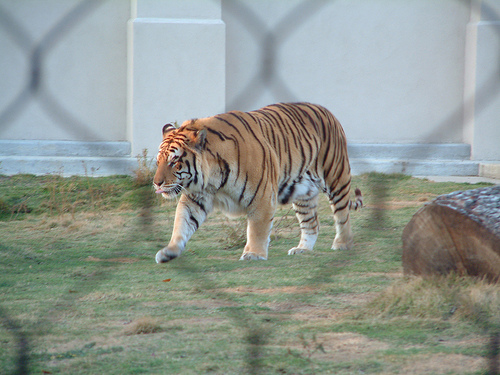Tigre: (143, 88, 380, 283)
